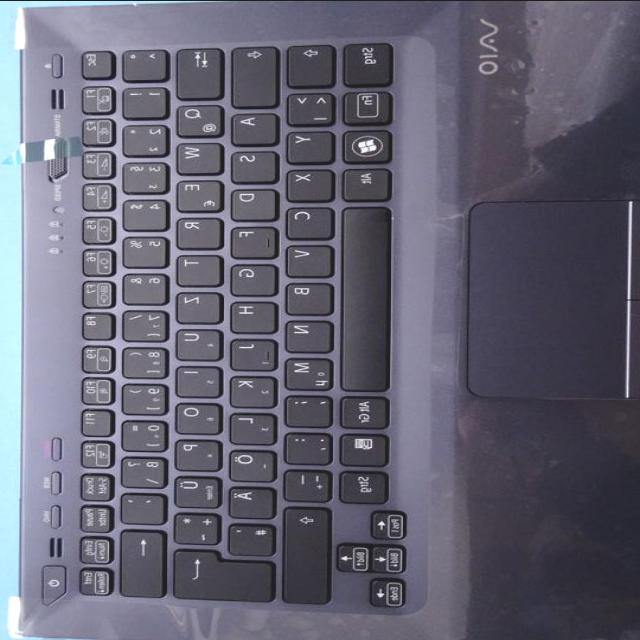0: (115, 416, 163, 448)
1: (118, 84, 164, 116)
2: (118, 121, 164, 153)
3: (118, 157, 164, 190)
4: (118, 195, 164, 227)
5: (118, 233, 164, 265)
6: (118, 270, 164, 302)
7: (117, 307, 165, 339)
8: (118, 343, 164, 375)
9: (116, 380, 164, 412)
a: (226, 110, 274, 142)
accent: (115, 489, 161, 521)
ae: (224, 484, 272, 516)
alt-left: (338, 164, 386, 197)
altgr-right: (336, 393, 384, 426)
b: (280, 279, 330, 312)
c: (281, 204, 329, 236)
caret: (116, 45, 164, 77)
comma: (280, 391, 328, 424)
d: (226, 185, 274, 217)
del: (114, 527, 160, 594)
e: (172, 177, 220, 209)
enter: (169, 546, 271, 599)
f: (226, 223, 274, 255)
g: (225, 260, 273, 292)
h: (225, 297, 273, 329)
hash: (223, 521, 271, 553)
i: (169, 362, 217, 394)
j: (225, 335, 273, 367)
k: (224, 372, 272, 404)
keyboard: (18, 23, 410, 615)
l: (224, 409, 272, 441)
less: (281, 88, 331, 122)
m: (280, 353, 330, 387)
minus: (279, 465, 327, 498)
n: (280, 316, 328, 348)
o: (169, 398, 217, 430)
oe: (225, 446, 273, 478)
p: (169, 435, 217, 467)
plus: (169, 509, 217, 541)
point: (280, 428, 328, 461)
q: (171, 101, 221, 133)
r: (172, 214, 220, 246)
s: (227, 147, 275, 179)
shift-left: (281, 41, 332, 83)
shift-lock: (225, 42, 275, 104)
shift-right: (276, 503, 326, 601)
space: (336, 203, 387, 388)
ss: (117, 452, 163, 484)
strg-left: (338, 37, 389, 81)
strg-right: (334, 467, 384, 501)
t: (172, 252, 218, 282)
tab: (170, 45, 220, 95)
u: (171, 325, 219, 357)
ue: (170, 472, 218, 505)
v: (281, 242, 329, 274)
w: (171, 139, 219, 171)
x: (281, 166, 329, 198)
y: (283, 128, 331, 160)
z: (171, 288, 219, 320)
